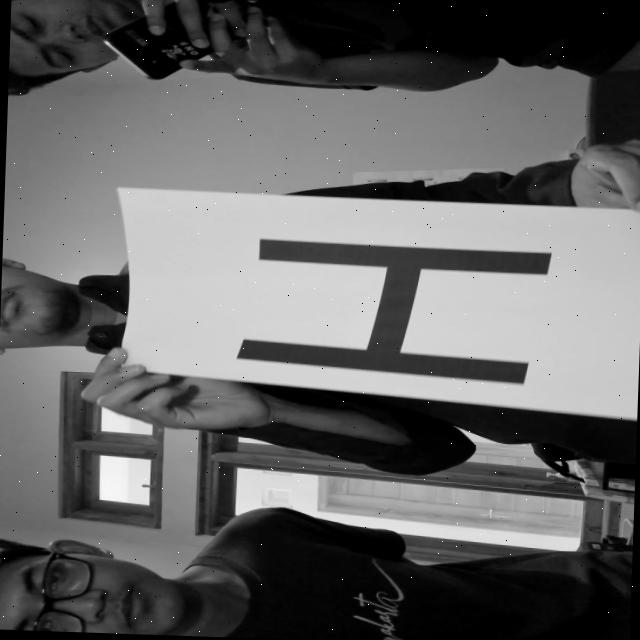h: (213, 224, 582, 386)
